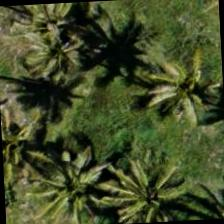Kelapa_Sawit: (16, 4, 111, 99), (28, 139, 123, 223), (140, 41, 223, 136), (7, 0, 100, 72), (103, 153, 197, 223), (0, 103, 56, 197)
